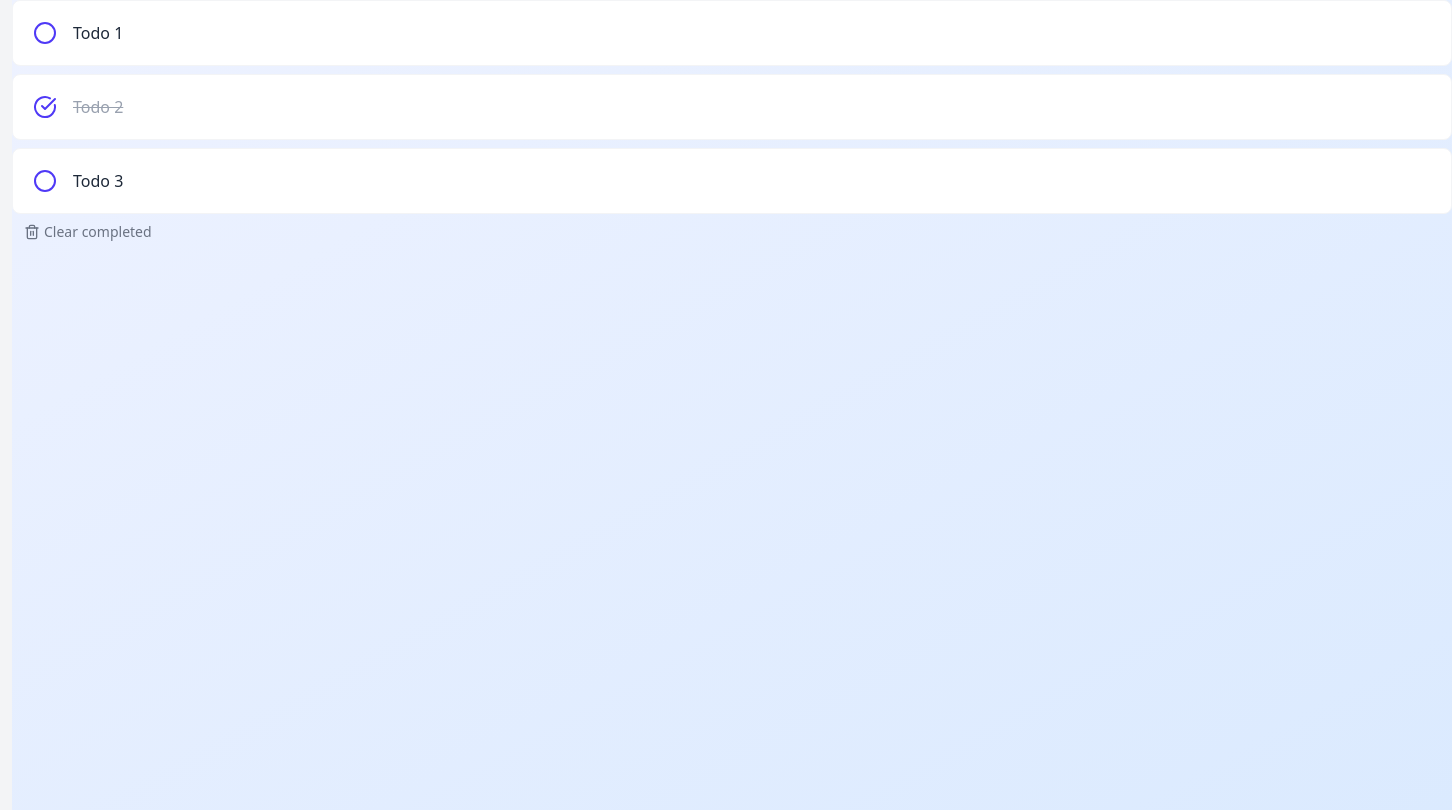
it: TodoControls test › Should clear completed todos when the button is clicked
Expected: the number of headings "Todo 1" is 3, x1=73 y1=22 x2=123 y2=44; x1=73 y1=96 x2=123 y2=118; x1=73 y1=170 x2=123 y2=192
Click the button "Clear completed": (88, 232) x1=12 y1=214 x2=164 y2=250
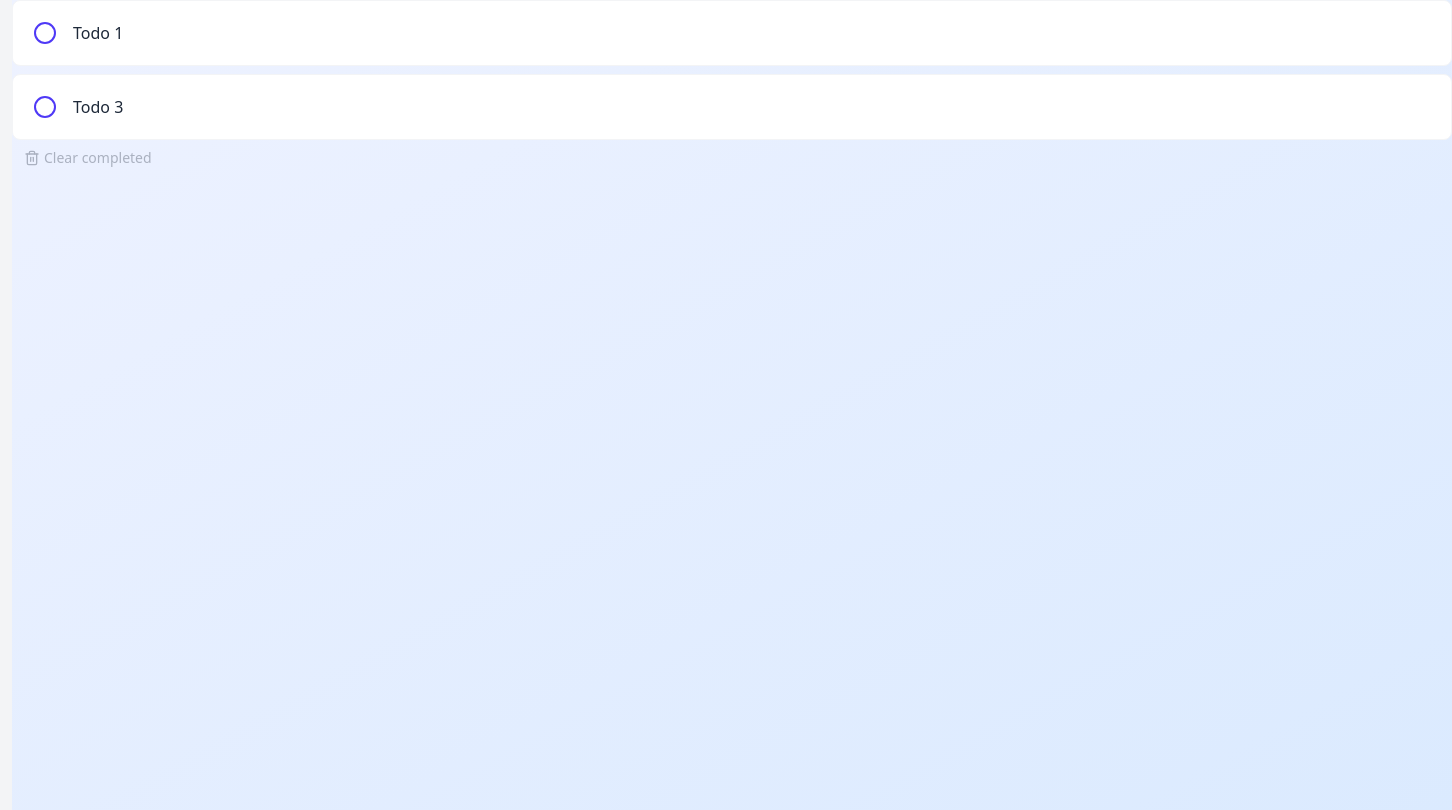
Expected: the number of headings "Todo 1" is 2, x1=73 y1=22 x2=123 y2=44; x1=73 y1=96 x2=123 y2=118
